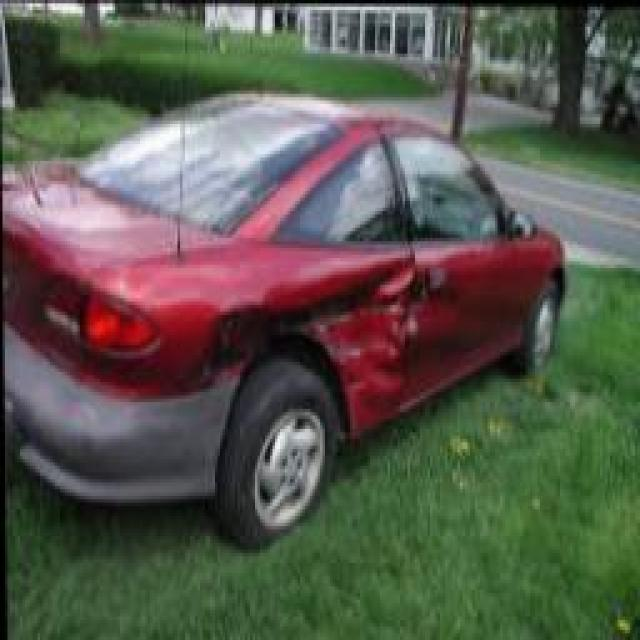Door: (396, 144, 516, 405)
Fender: (180, 233, 410, 438)
